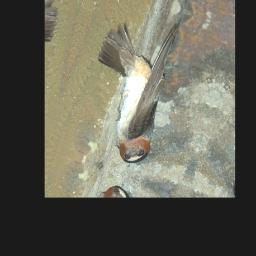Swallow: (71, 0, 191, 170)
